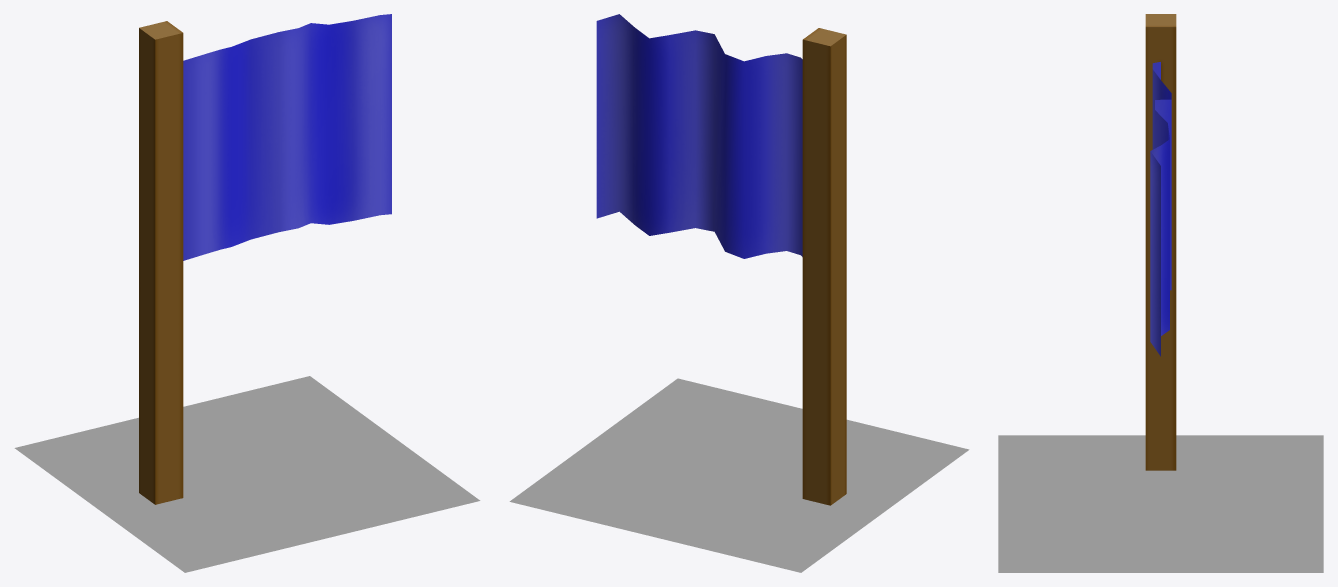
Rendered from Goal.fbx.
3 renders of one model, left to right at view 1: azimuth 30°, elevation 25°; view 2: azimuth 150°, elevation 25°; view 3: azimuth 270°, elevation 25°, orthographic. The views are drawn at different scales.
Visible parts, largest first — view 1: goal, pPlane1; view 2: goal, pPlane1; view 3: pPlane1, goal.
Part boxes in pixels (box(x1,y1,x2,y2)): goal: box(139, 14, 391, 504); pPlane1: box(14, 376, 480, 572); goal: box(596, 14, 846, 505); pPlane1: box(509, 378, 969, 572); pPlane1: box(998, 435, 1323, 572); goal: box(1145, 14, 1176, 470).
Bounding box in the file's own units: 6 × 9.02 × 6.
2 materials, 1 textured.
